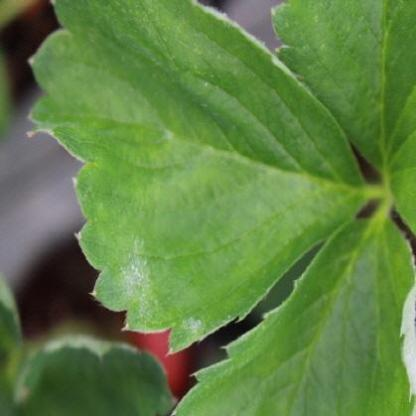Strawberry_Powdery_Mildew_Leaf: (25, 0, 373, 355), (171, 212, 415, 415)
